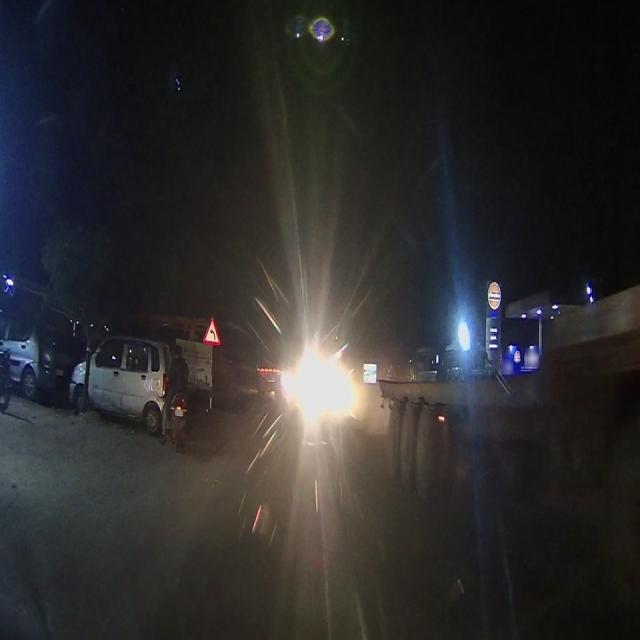left-hand-curve: (205, 316, 219, 346)
